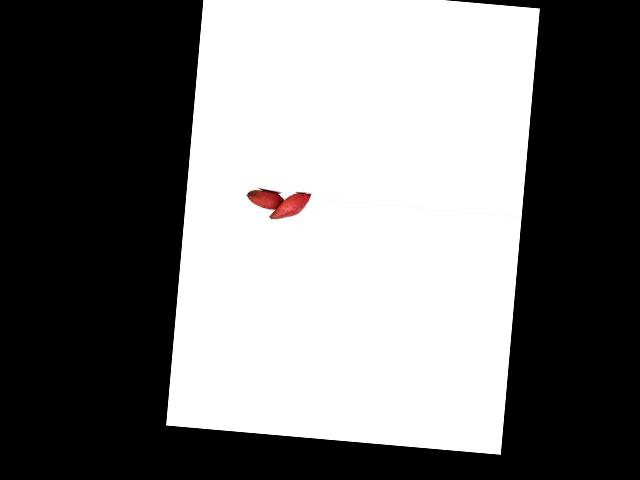sweet_potato: (244, 188, 288, 213)
